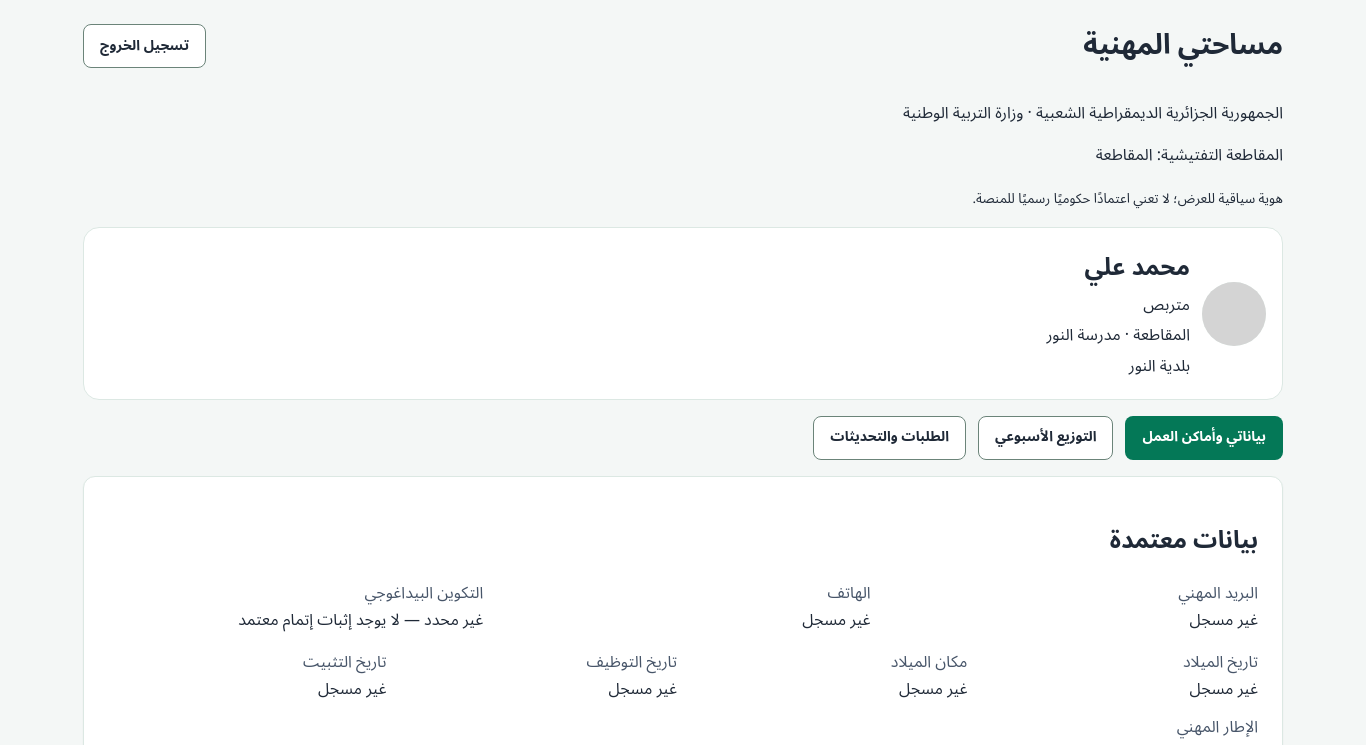
Test: contact update posts a proposal, does not overwrite approved identity and shows confirmation
Expected: the heading "محمد علي" is shown, x1=1085 y1=242 x2=1190 y2=293
Click the button "الطلبات والتحديثات": (890, 438) x1=813 y1=416 x2=966 y2=460
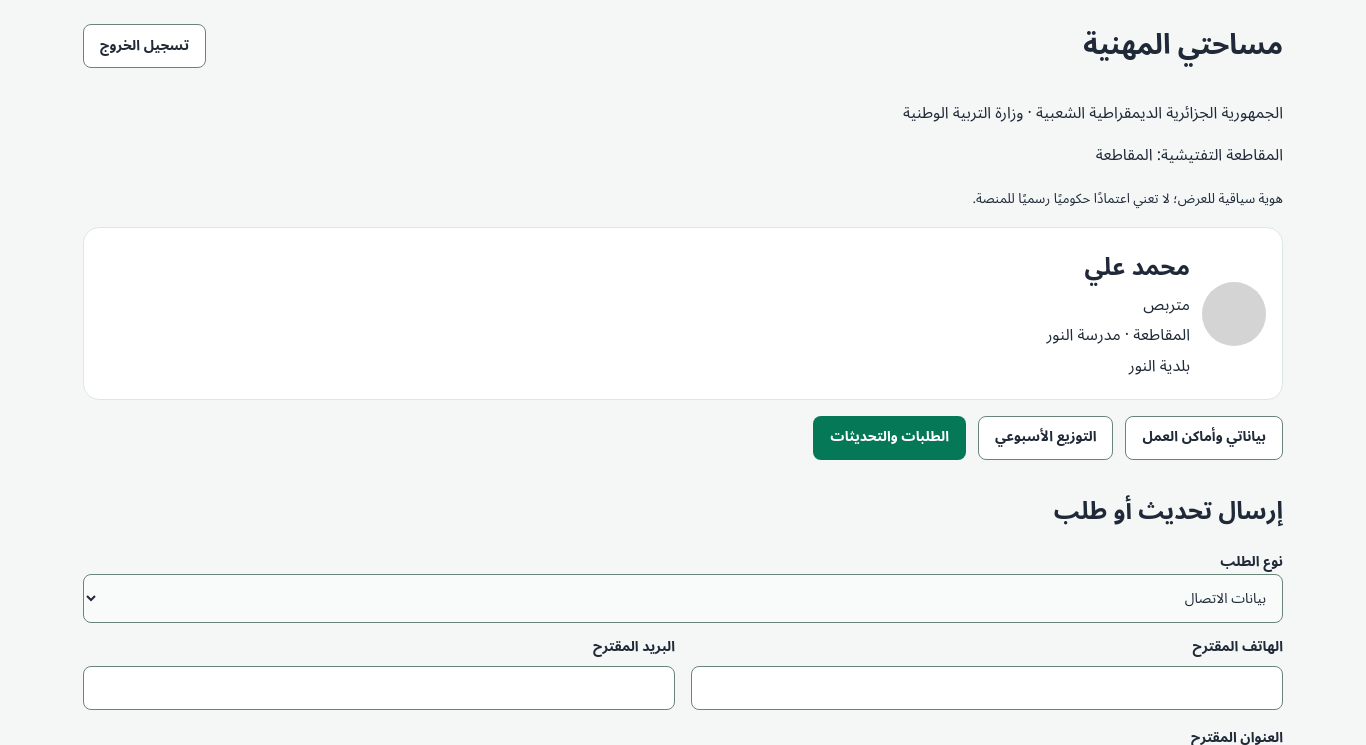
In the field labelled "البريد المقترح": (379, 688) x1=83 y1=666 x2=675 y2=710, type "new@example.invalid"
(page scrolled)
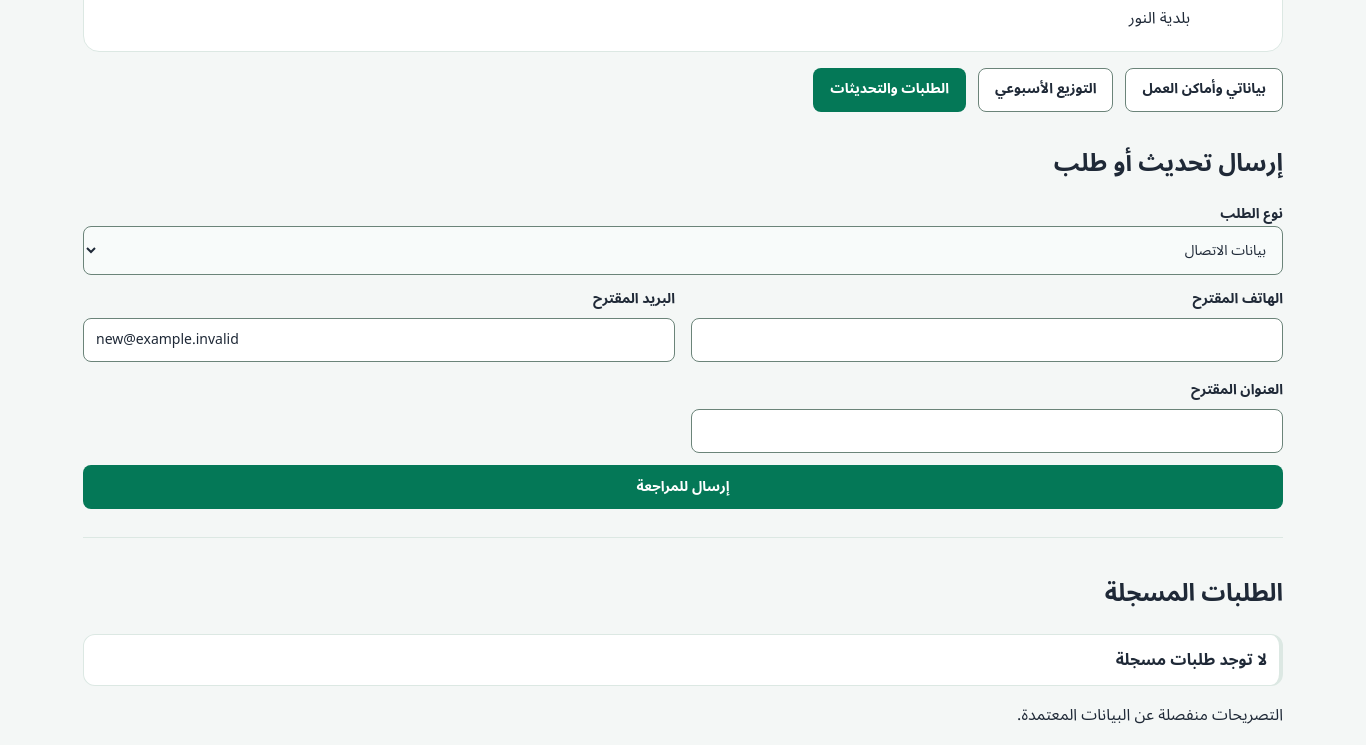
Click the button "إرسال للمراجعة": (683, 487) x1=83 y1=465 x2=1283 y2=509
(page scrolled)
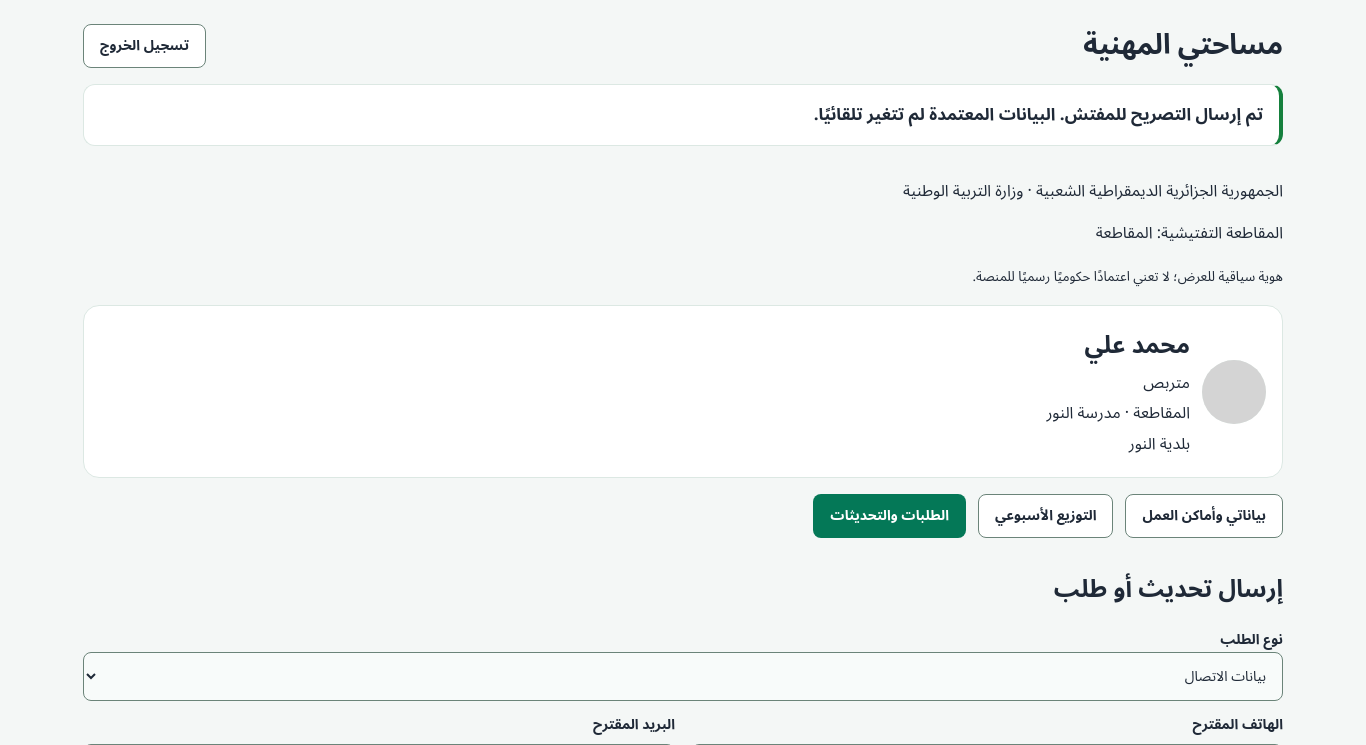
Now the heading "تم إرسال التصريح للمفتش" is shown, box x1=814 y1=97 x2=1263 y2=133
